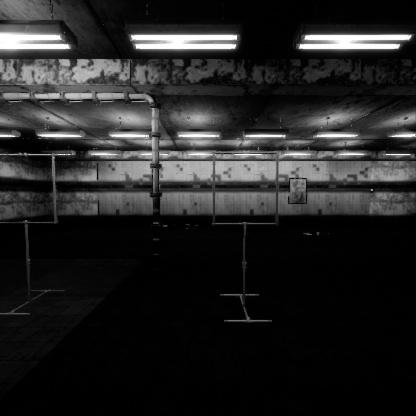gate: (212, 189, 285, 264)
